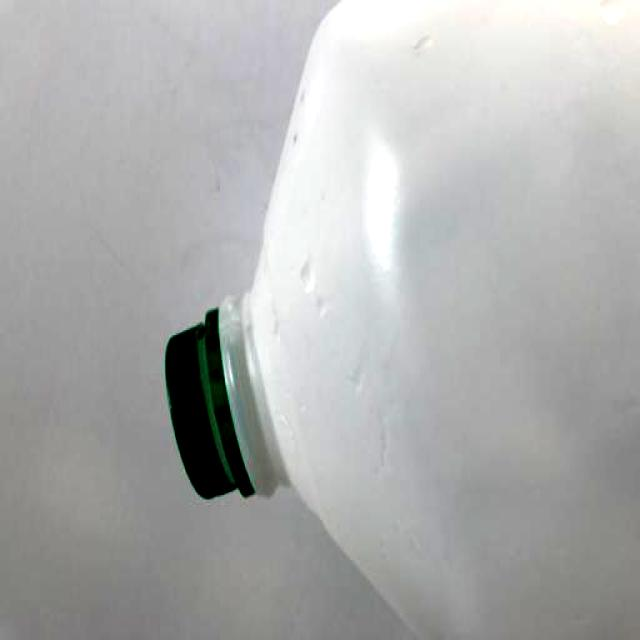Plastic: (161, 0, 640, 640)
